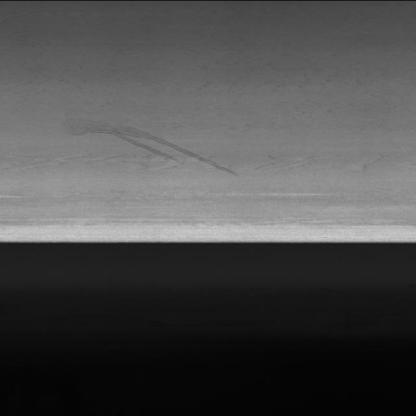water_spot: (50, 105, 254, 181)
